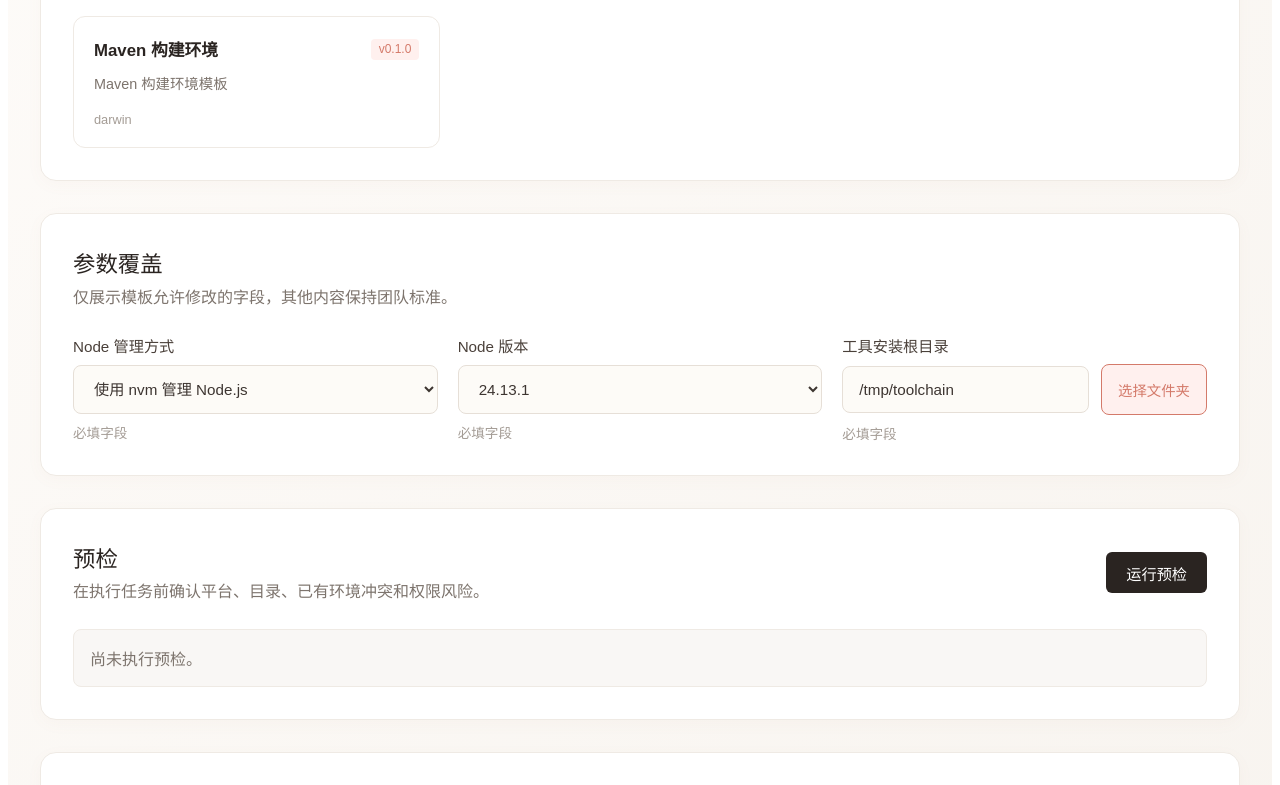
Test: App › renders node version as official lts select and allows directory picking
(page scrolled)
Expected: the dropdown showing "24.13.1" is shown, [458,365,822,414]
Click the button with aria-label "工具安装根目录 选择文件夹".
click(1154, 390)  # box [1101,364,1207,415]
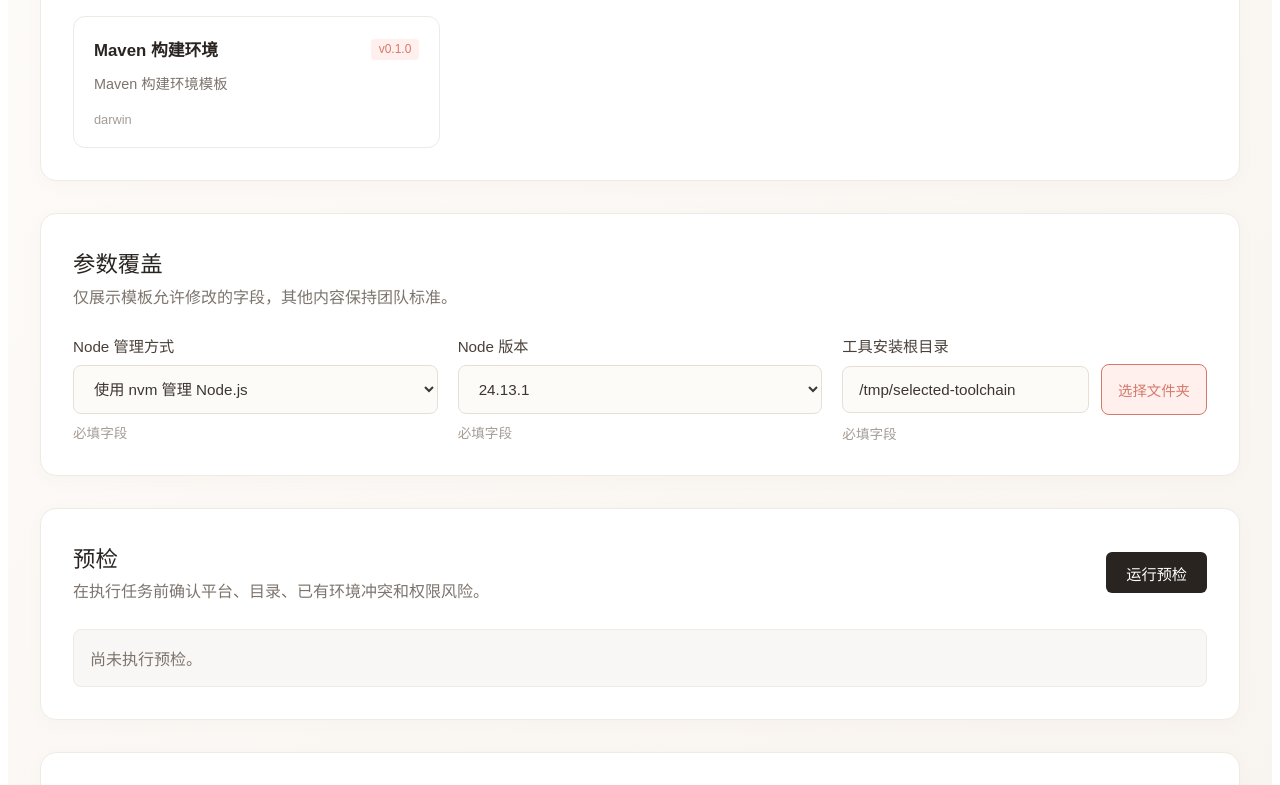
Expected: the field showing "/tmp/selected-toolchain" is shown, [842,366,1089,413]
